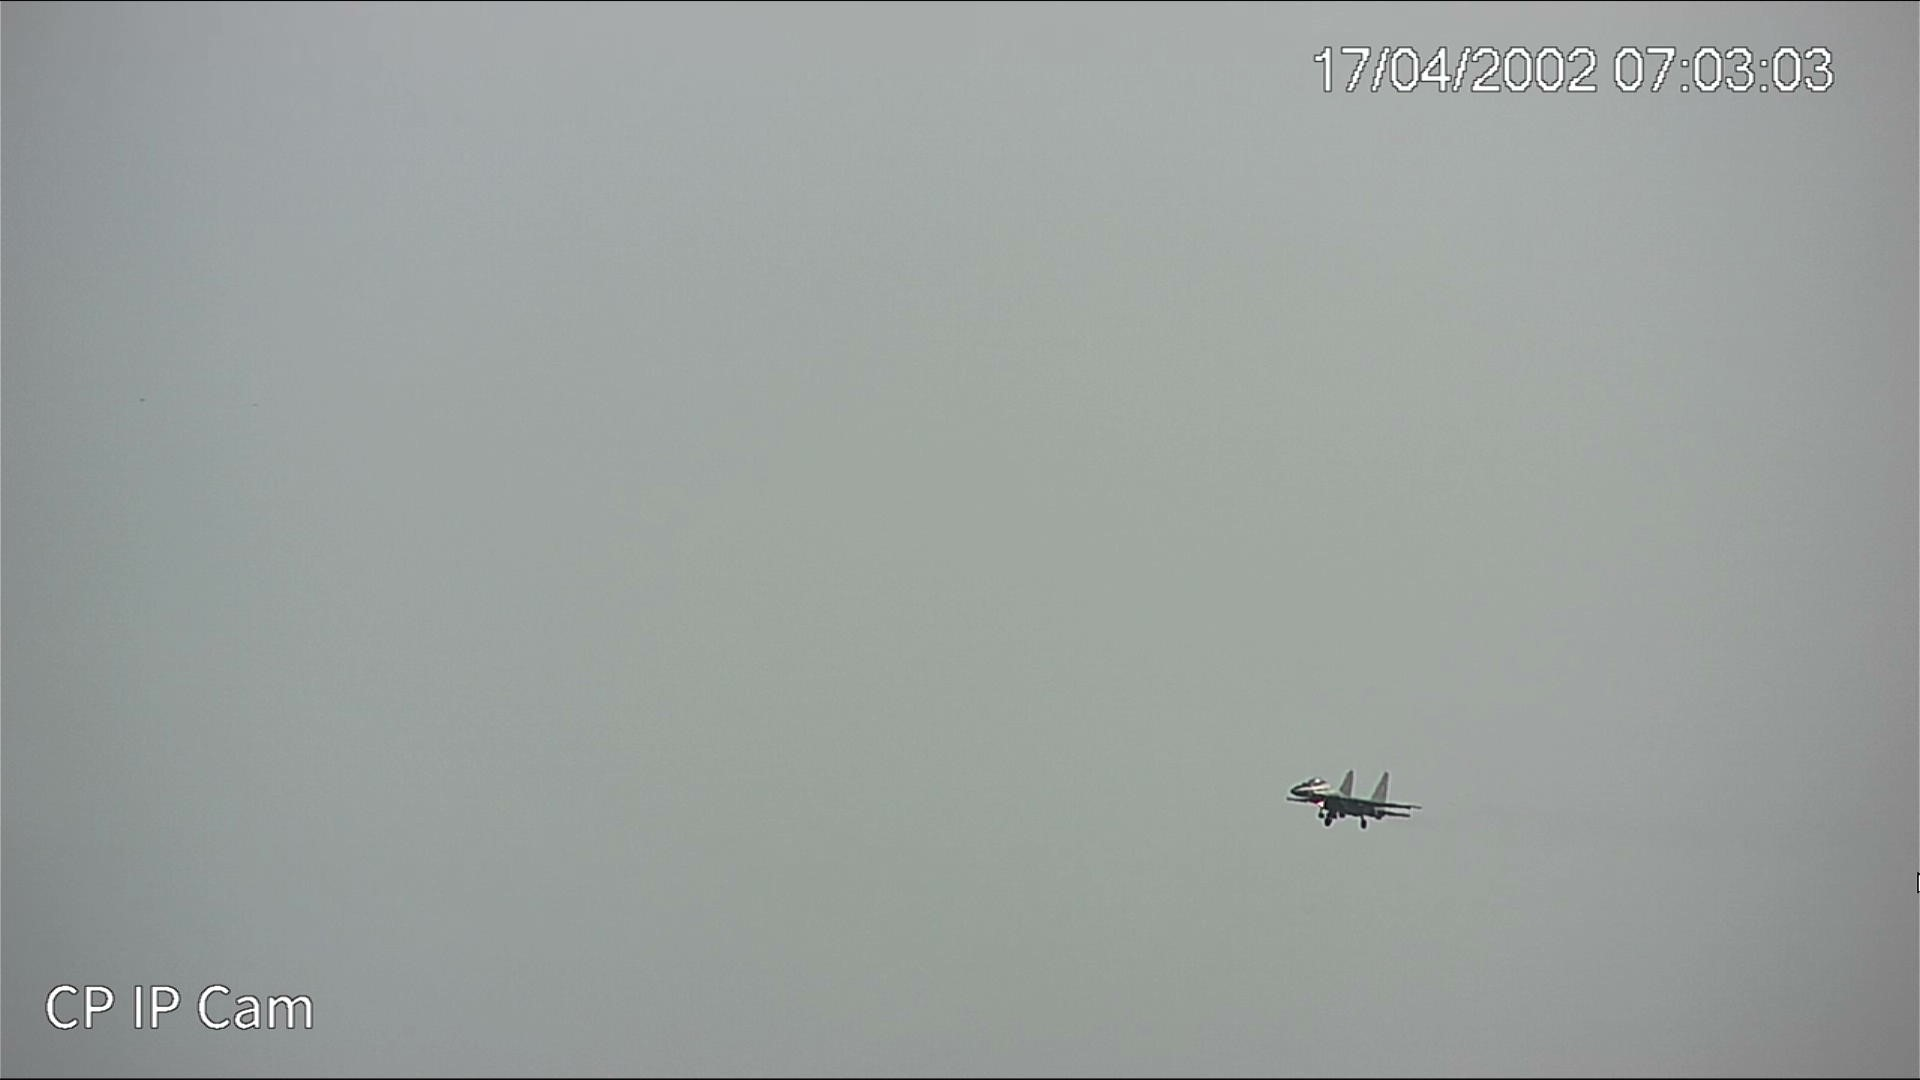SU_30: (1284, 770, 1418, 833)
